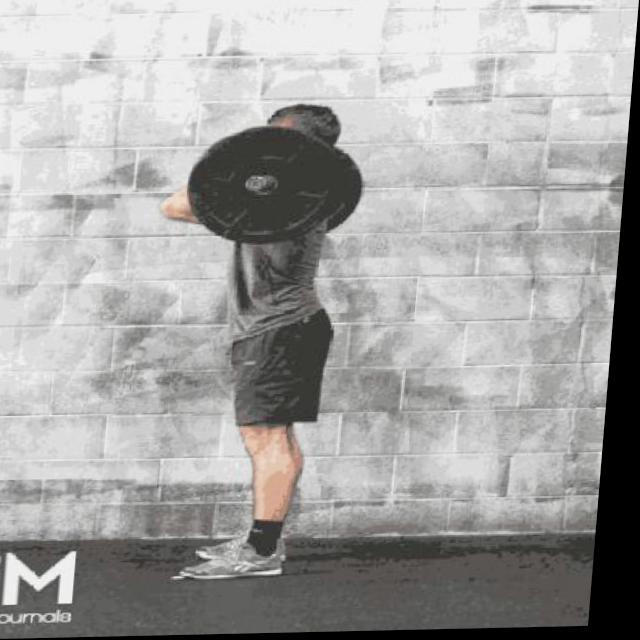barbell: (183, 121, 348, 252)
